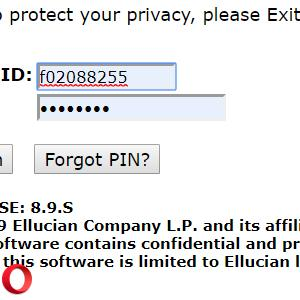opera: (2, 264, 32, 294)
